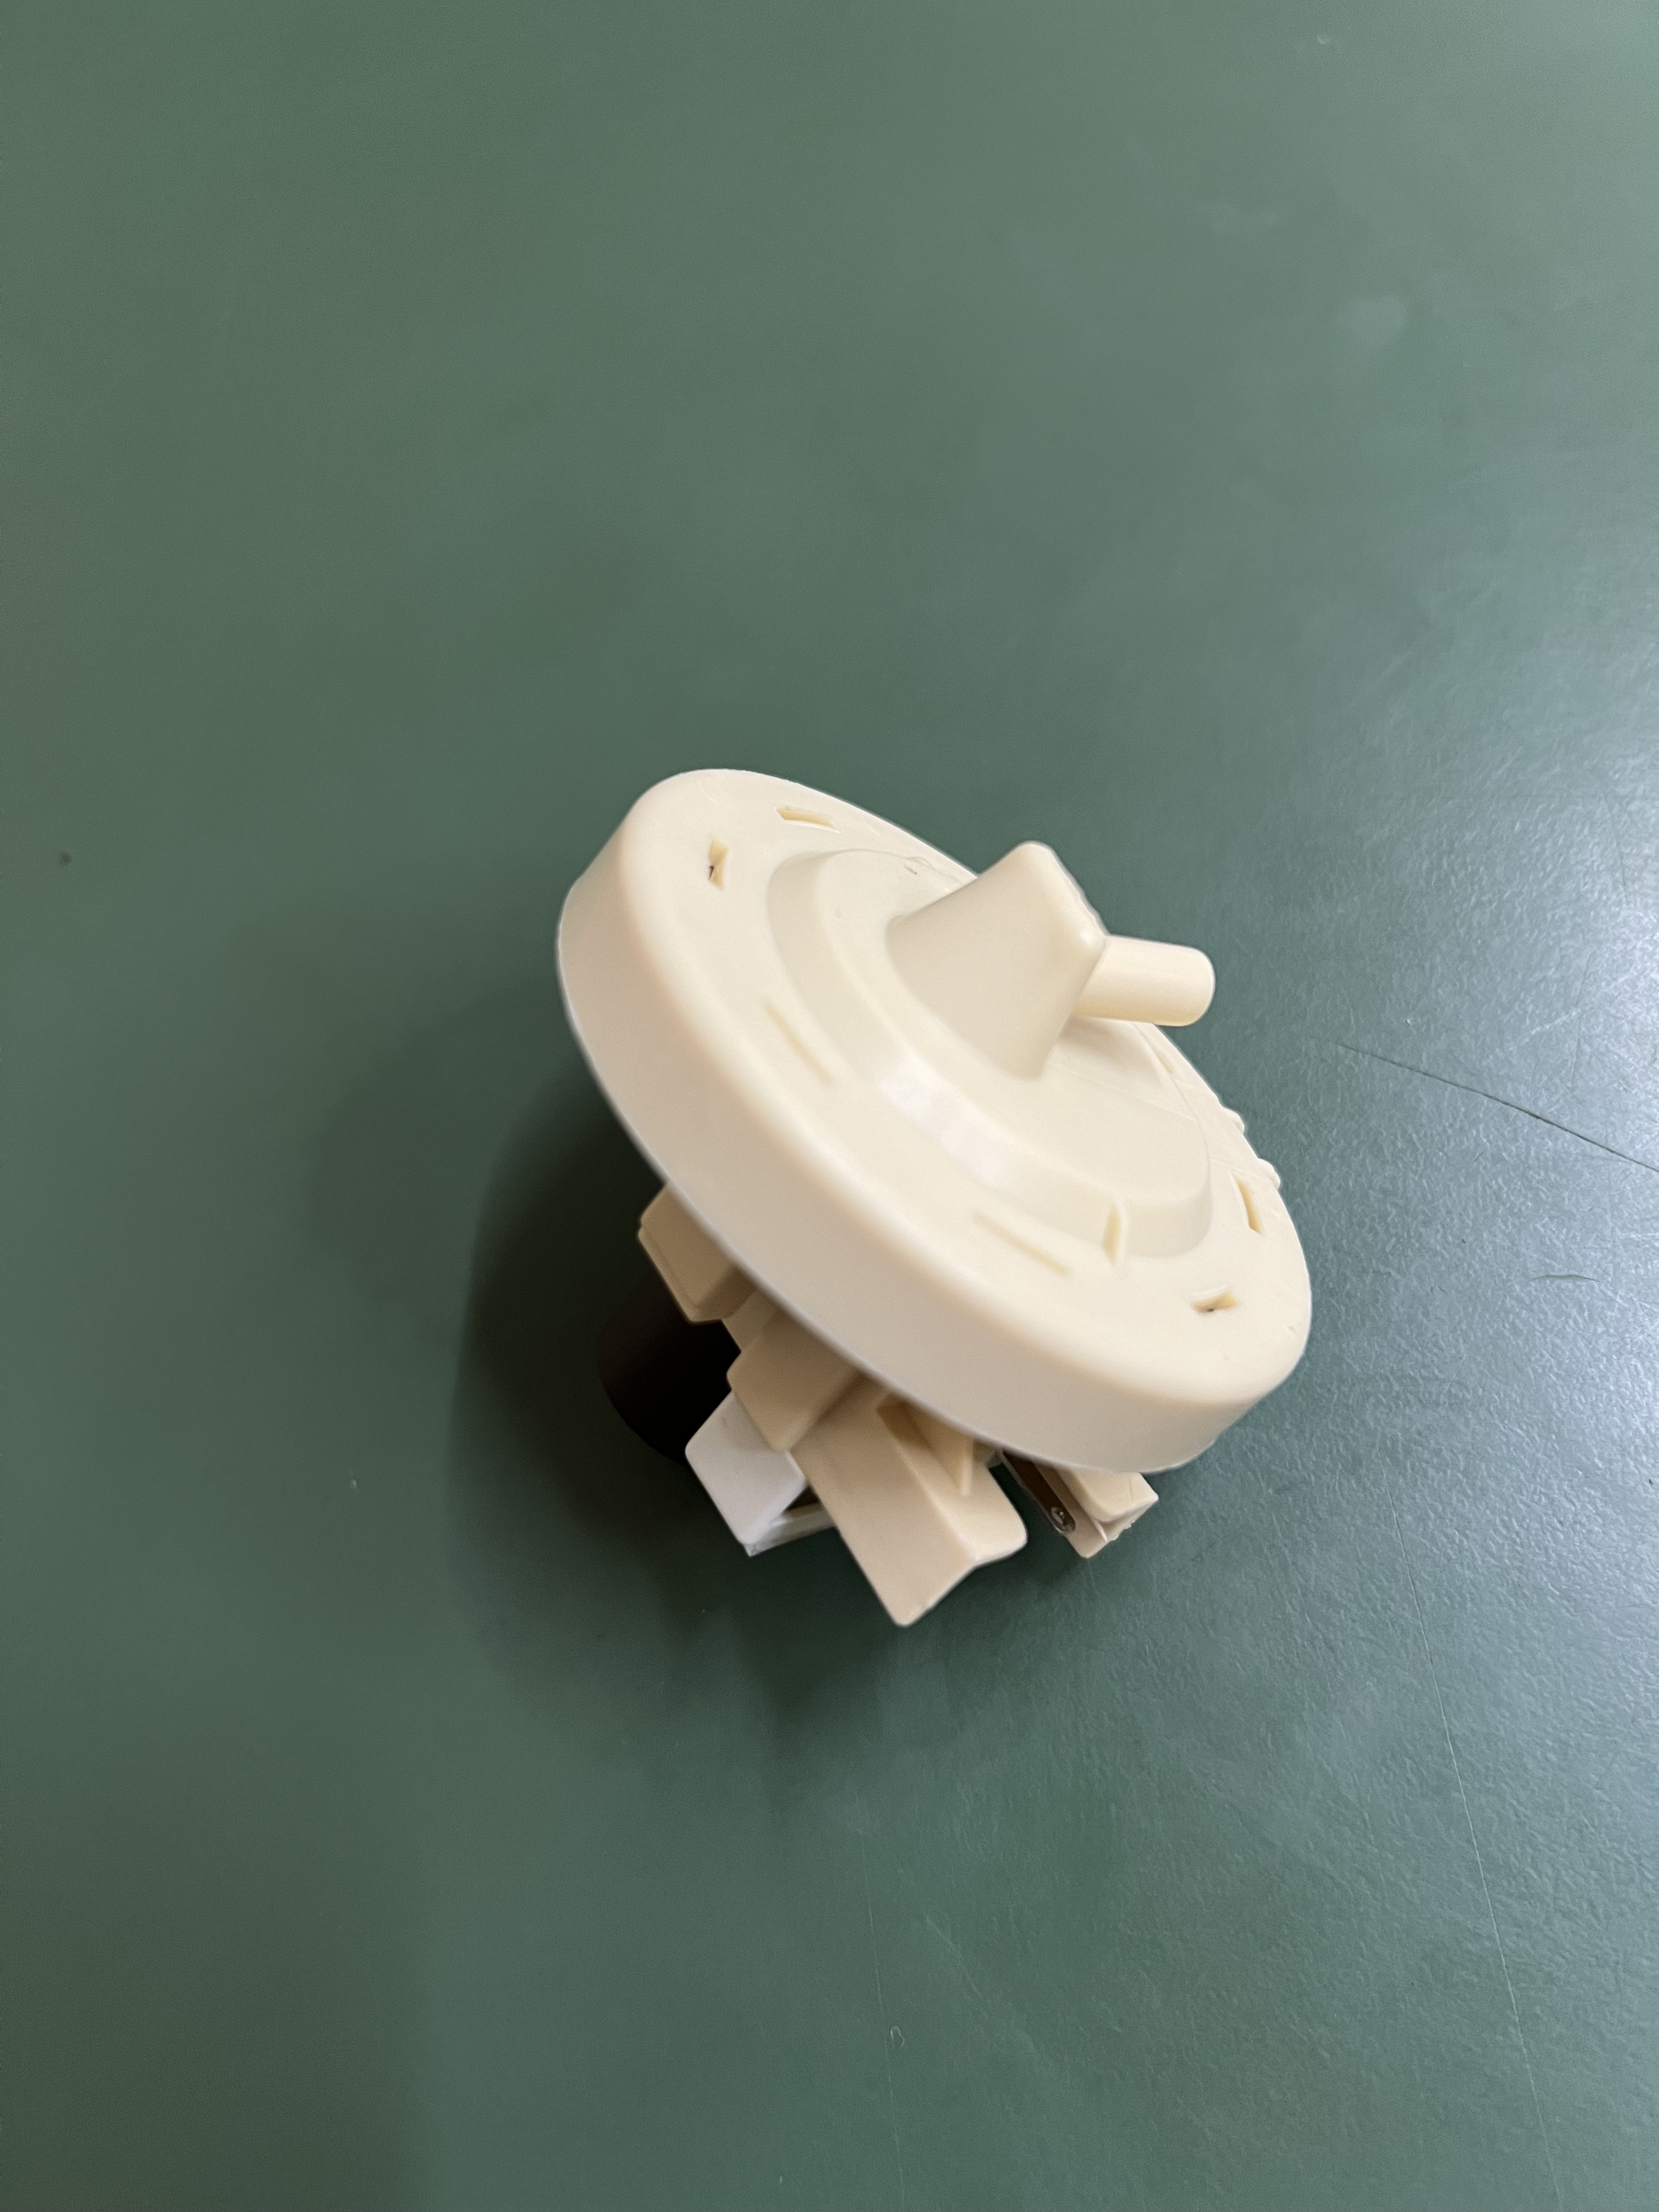pressure_sensor: (509, 754, 1392, 1658)
